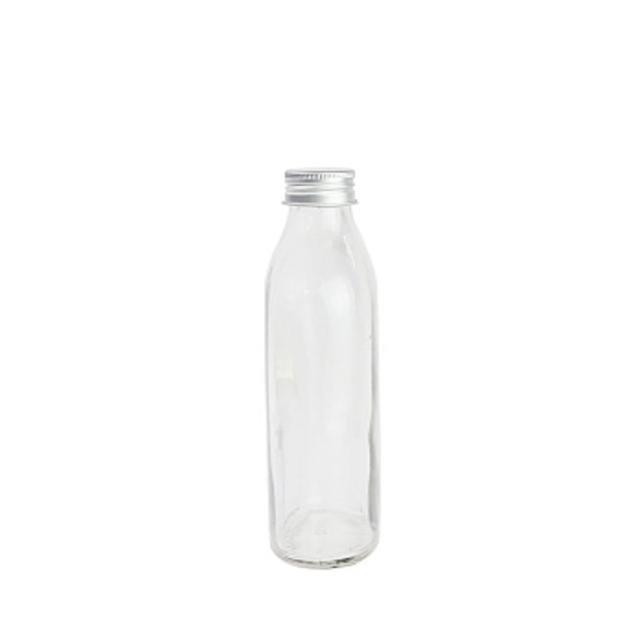recyclable: (230, 200, 418, 573)
